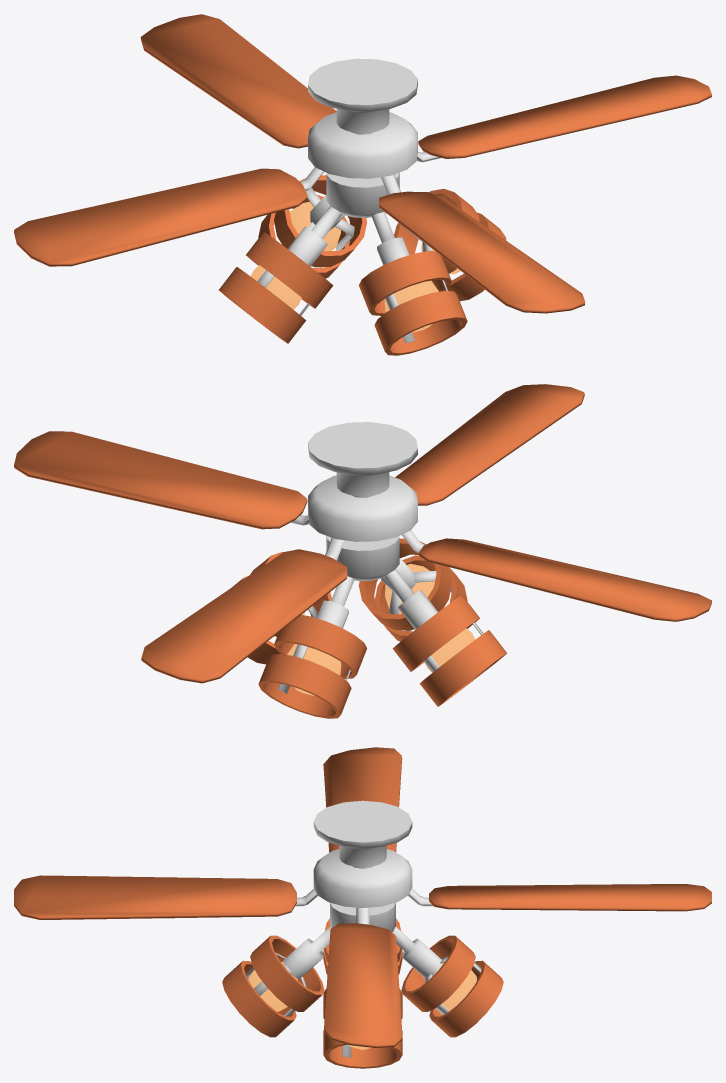
Rendered from ceiling-fan-light.glb.
The picture shows the model from 3 angles, top to bottom: view 1: azimuth 30°, elevation 25°; view 2: azimuth 150°, elevation 25°; view 3: azimuth 270°, elevation 25°; orthographic projection. The views are drawn at different scales.
Visible parts, largest first — view 1: Plane (×4), Cylinder (×4), Cylinder.003, __X_ROTOR__, Cylinder.002 (×2), Lamp (×3), Plane.002; view 2: Plane (×4), Cylinder (×4), Cylinder.003, __X_ROTOR__, Cylinder.002 (×2), Lamp (×2); view 3: Plane (×4), Cylinder (×3), Cylinder.003, __X_ROTOR__, Cylinder.002 (×2), Lamp.
Part boxes in pixels (x1=…): Plane (×4): x1=14, y1=14, x2=711, y2=313; Cylinder (×4): x1=219, y1=175, x2=506, y2=355; Cylinder.003: x1=308, y1=58, x2=417, y2=217; __X_ROTOR__: x1=308, y1=112, x2=417, y2=178; Cylinder.002 (×2): x1=288, y1=206, x2=409, y2=266; Lamp (×3): x1=250, y1=201, x2=438, y2=332; Plane.002: x1=305, y1=188, x2=354, y2=250; Plane (×4): x1=14, y1=384, x2=711, y2=683; Cylinder (×4): x1=232, y1=538, x2=506, y2=718; Cylinder.003: x1=308, y1=422, x2=417, y2=580; __X_ROTOR__: x1=308, y1=475, x2=417, y2=541; Cylinder.002 (×2): x1=317, y1=569, x2=437, y2=629; Lamp (×2): x1=287, y1=628, x2=474, y2=695; Plane (×4): x1=14, y1=747, x2=711, y2=1047; Cylinder (×3): x1=222, y1=935, x2=503, y2=1068; Cylinder.003: x1=313, y1=800, x2=412, y2=931; __X_ROTOR__: x1=313, y1=849, x2=412, y2=907; Cylinder.002 (×2): x1=283, y1=926, x2=441, y2=979; Lamp: x1=432, y1=963, x2=476, y2=1010.
Bounding box in the file's own units: 1.06 × 0.3538 × 1.06.
